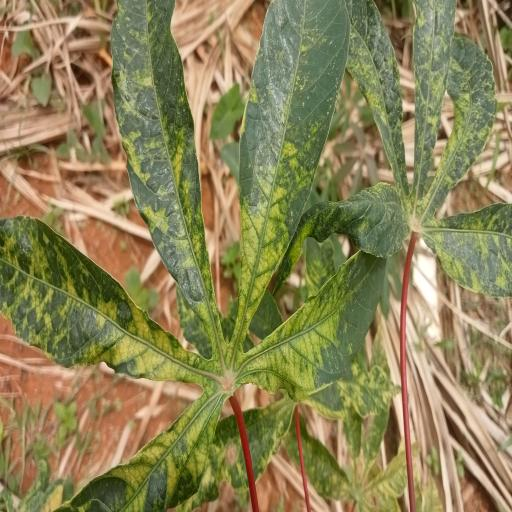Cassava_Mosaic: (0, 0, 389, 512), (261, 0, 512, 301)
